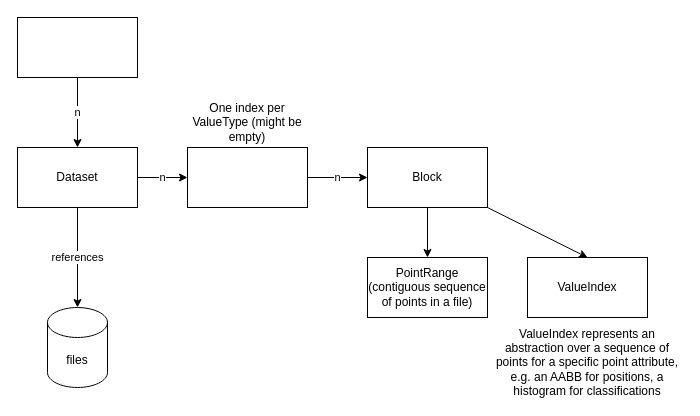
This 700x416 diagram has some shape labels left out. The shapes that lost their labels are listed below. From the top down, each one's centre as x and y in pixels, then its label:
the point at 77,47: Progressive Index
the point at 247,177: BlockIndex
